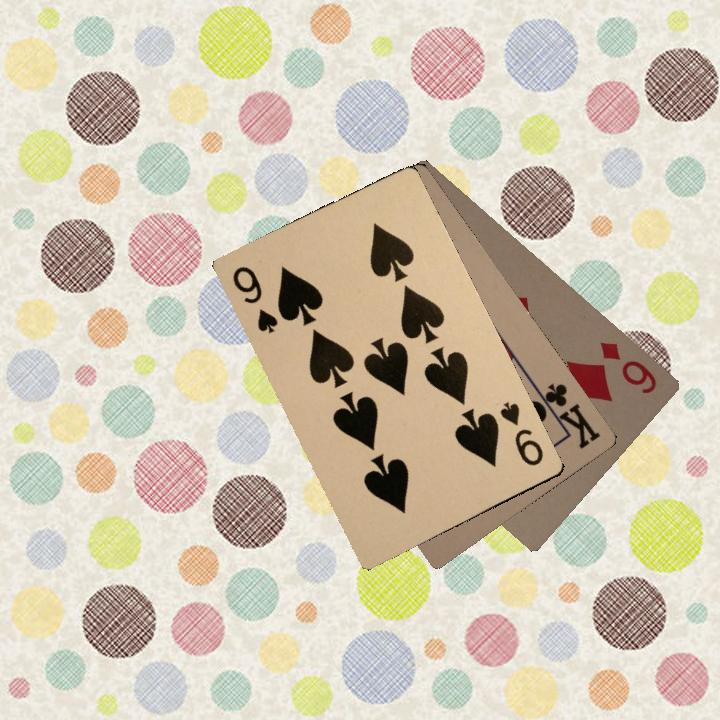6d: (595, 337, 659, 397)
9s: (228, 262, 281, 336), (495, 398, 546, 469)
Kc: (531, 379, 604, 452)
